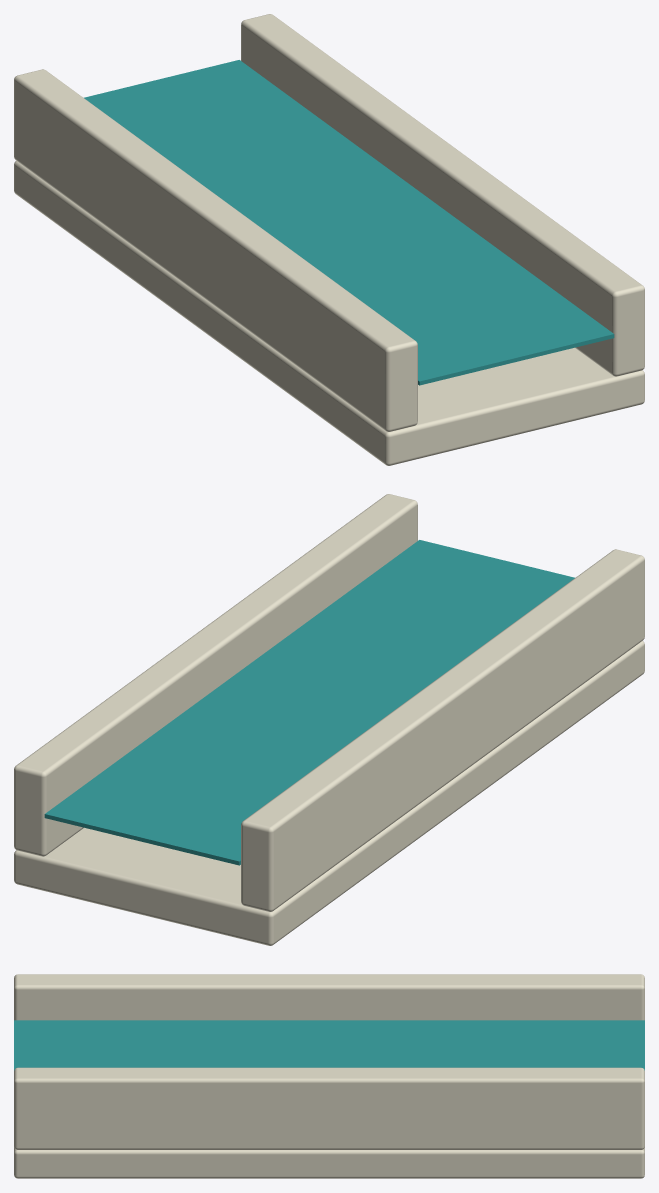
The model's file is water-clock-garden-and-hydraulic-puzzles-open-channel--c6d59634__31951.glb.
3 views of the same model, one above another, from view 1: azimuth 30°, elevation 25°; view 2: azimuth 150°, elevation 25°; view 3: azimuth 270°, elevation 25° (orthographic). The views are drawn at different scales.
Visible parts, largest first — view 1: open-channel-straight; view 2: open-channel-straight; view 3: open-channel-straight.
Boxes of the visible parts, x1=… form: open-channel-straight: x1=14, y1=14, x2=644, y2=465; open-channel-straight: x1=14, y1=494, x2=644, y2=945; open-channel-straight: x1=14, y1=974, x2=644, y2=1178.
Size of the model in its own units: 0.7999 by 0.3499 by 2.
